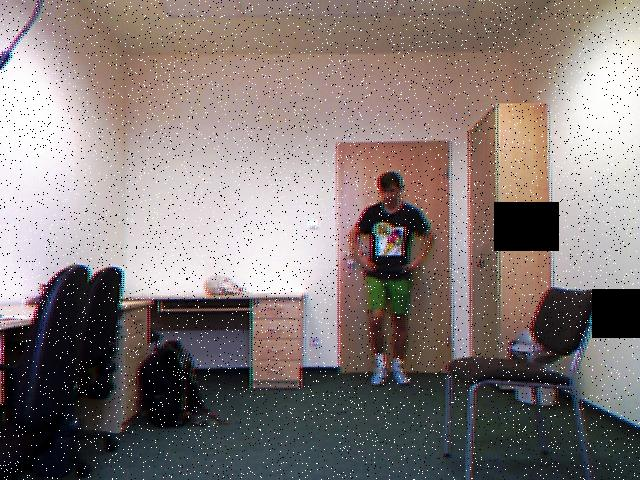standing: (350, 164, 445, 401)
